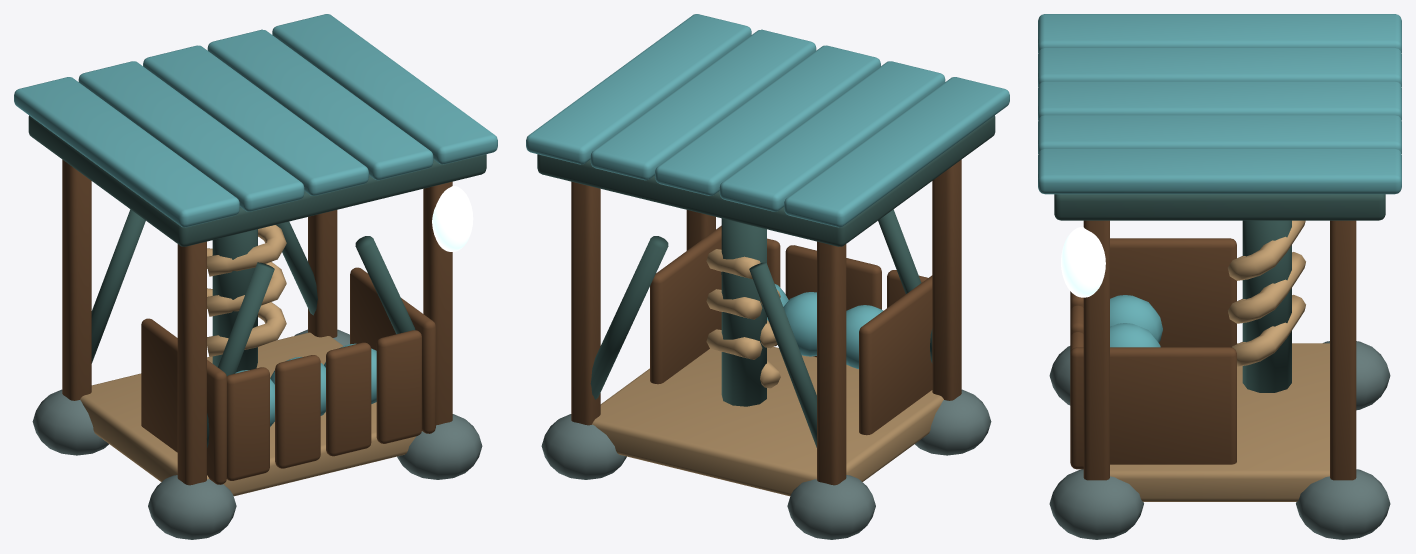
Rendered from extractor_shard.glb.
The picture shows the model from 3 angles, left to right: view 1: azimuth 30°, elevation 25°; view 2: azimuth 150°, elevation 25°; view 3: azimuth 270°, elevation 25°; orthographic projection. The views are drawn at different scales.
Visible parts, largest first — view 1: extractor_shard_part_0; view 2: extractor_shard_part_0; view 3: extractor_shard_part_0.
Part boxes in pixels (left/top/right/bottom): extractor_shard_part_0: left=14, top=14, right=497, bottom=539; extractor_shard_part_0: left=526, top=14, right=1009, bottom=539; extractor_shard_part_0: left=1038, top=14, right=1401, bottom=539.
Bounding box in the file's own units: 2.1 × 2.18 × 1.92.
